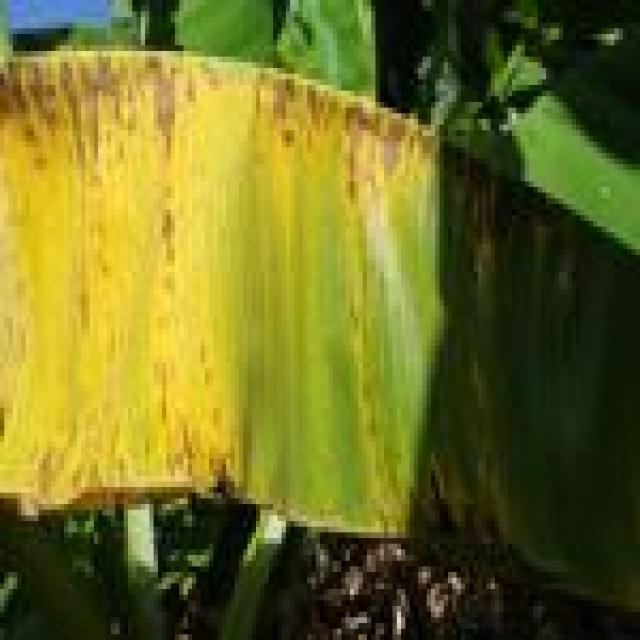Early_rust: (0, 29, 523, 594)
